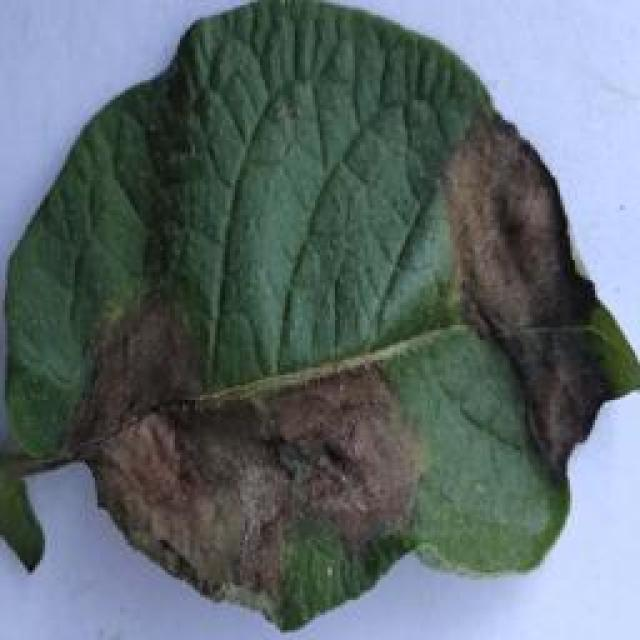Potato_Late_Blight: (8, 2, 632, 626), (405, 2, 640, 102)
